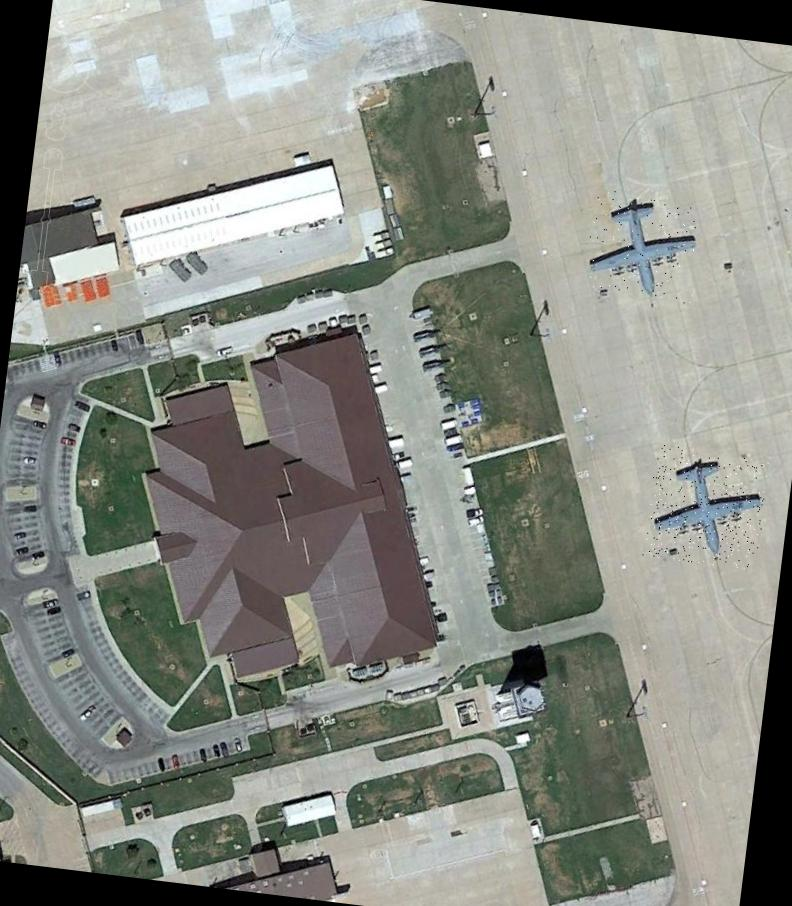A2: (643, 444, 770, 570), (583, 186, 705, 305)
